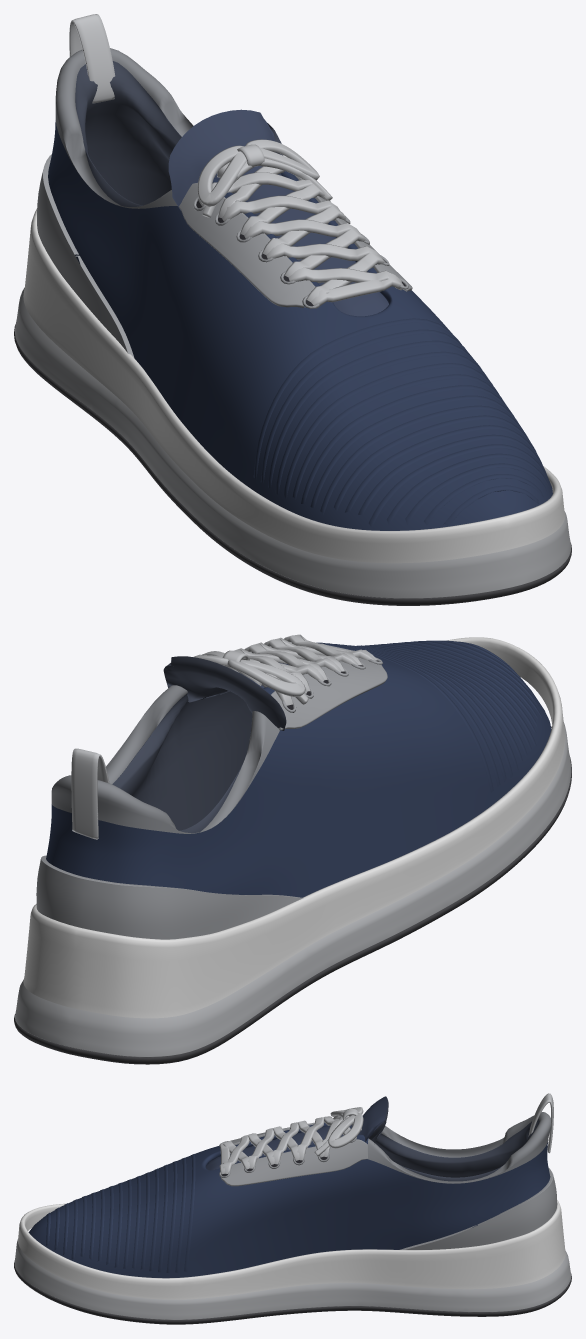
The model's file is men_casual_b.glb.
3 renders of one model, top to bottom at view 1: azimuth 30°, elevation 25°; view 2: azimuth 150°, elevation 25°; view 3: azimuth 270°, elevation 25°, orthographic. The views are drawn at different scales.
Parts seen in each view (by area): view 1: upper_base, midsole_top, midsole_low, knit_ribs, laces, lining, tongue, eyestay, collar, outsole, heel_clip, pull_loop; view 2: upper_base, midsole_top, midsole_low, lining, heel_clip, knit_ribs, collar, laces, outsole, tongue_lining, eyestay, pull_loop; view 3: upper_base, midsole_top, midsole_low, knit_ribs, laces, lining, heel_clip, collar, eyestay, outsole, tongue, pull_loop.
Boxes of the visible parts, left/top/right/bottom form: upper_base: left=48, top=120, right=552, bottom=530; midsole_top: left=23, top=208, right=564, bottom=563; midsole_low: left=14, top=288, right=571, bottom=598; knit_ribs: left=253, top=318, right=549, bottom=527; laces: left=197, top=139, right=403, bottom=308; lining: left=75, top=61, right=181, bottom=206; tongue: left=168, top=109, right=388, bottom=316; eyestay: left=179, top=182, right=315, bottom=307; collar: left=55, top=48, right=193, bottom=208; outsole: left=14, top=324, right=571, bottom=605; heel_clip: left=37, top=154, right=134, bottom=357; pull_loop: left=69, top=14, right=115, bottom=103; upper_base: left=46, top=641, right=551, bottom=897; midsole_top: left=23, top=637, right=565, bottom=1018; midsole_low: left=15, top=722, right=571, bottom=1057; lining: left=112, top=691, right=252, bottom=832; heel_clip: left=36, top=855, right=303, bottom=939; knit_ribs: left=316, top=640, right=542, bottom=792; collar: left=51, top=685, right=279, bottom=833; laces: left=193, top=634, right=377, bottom=705; outsole: left=14, top=726, right=571, bottom=1064; tongue_lining: left=163, top=656, right=286, bottom=730; eyestay: left=271, top=657, right=387, bottom=730; pull_loop: left=71, top=748, right=109, bottom=839; upper_base: left=28, top=1122, right=550, bottom=1278; midsole_top: left=18, top=1200, right=565, bottom=1299; midsole_low: left=14, top=1239, right=571, bottom=1319; knit_ribs: left=46, top=1154, right=195, bottom=1273; laces: left=219, top=1107, right=363, bottom=1174; lining: left=375, top=1119, right=539, bottom=1181; heel_clip: left=400, top=1167, right=557, bottom=1249; collar: left=368, top=1112, right=551, bottom=1183; eyestay: left=221, top=1139, right=367, bottom=1186; outsole: left=14, top=1262, right=571, bottom=1324; tongue: left=206, top=1096, right=387, bottom=1170; pull_loop: left=528, top=1093, right=553, bottom=1153.
Size of the model in its own units: 101 by 112 by 295.
